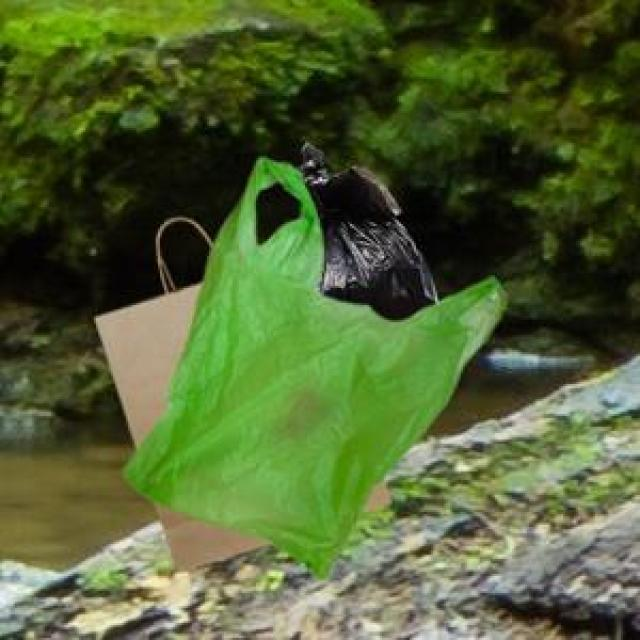miscellaneous trash: (120, 154, 501, 576), (292, 139, 433, 318)
paper: (92, 280, 386, 568)
